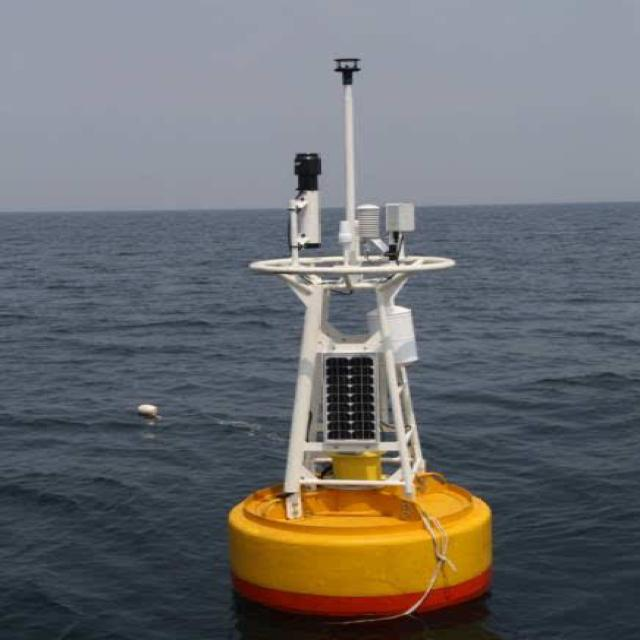buoy: (206, 50, 504, 618)
